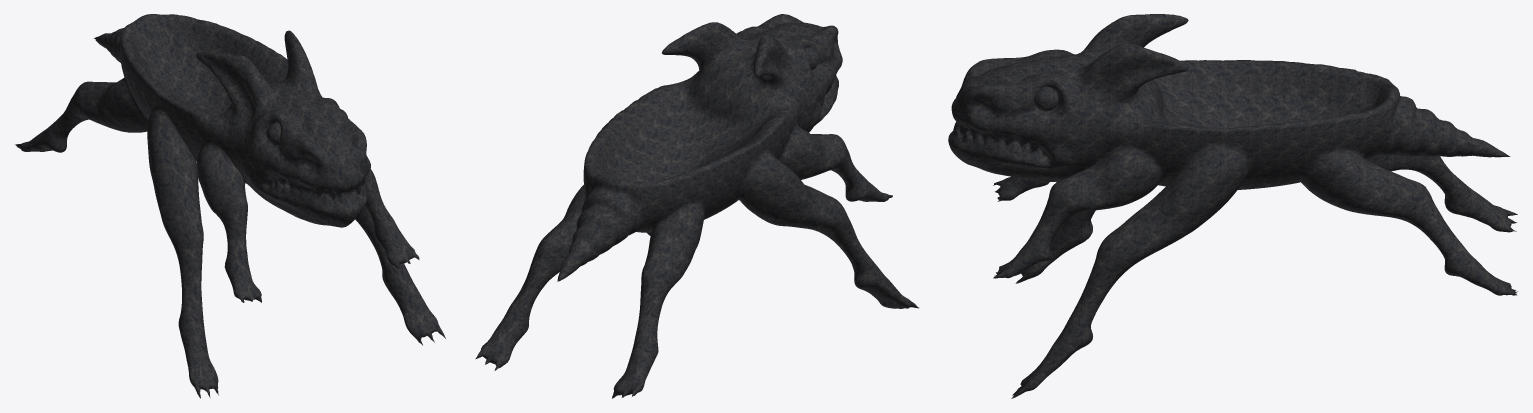
File: boat2.glb
The picture shows the model from 3 angles, left to right: view 1: azimuth 30°, elevation 25°; view 2: azimuth 150°, elevation 25°; view 3: azimuth 270°, elevation 25°; orthographic projection. The views are drawn at different scales.
Parts seen in each view (by area): view 1: boat-quad.001; view 2: boat-quad.001; view 3: boat-quad.001.
Part boxes in pixels (left/top/right/bottom): boat-quad.001: left=15, top=14, right=445, bottom=398; boat-quad.001: left=475, top=14, right=918, bottom=398; boat-quad.001: left=948, top=14, right=1517, bottom=398.
Bounding box in the file's own units: 11.11 × 12.23 × 20.52.
1 material, 1 textured.
